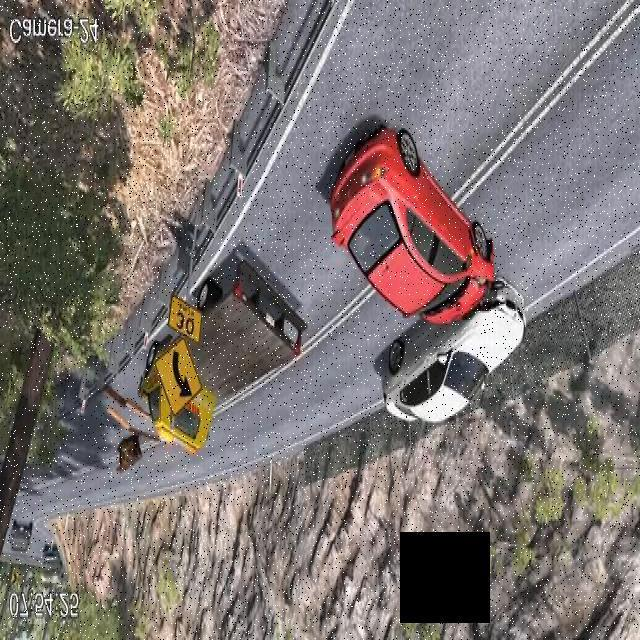vehicle: (340, 81, 532, 446)
